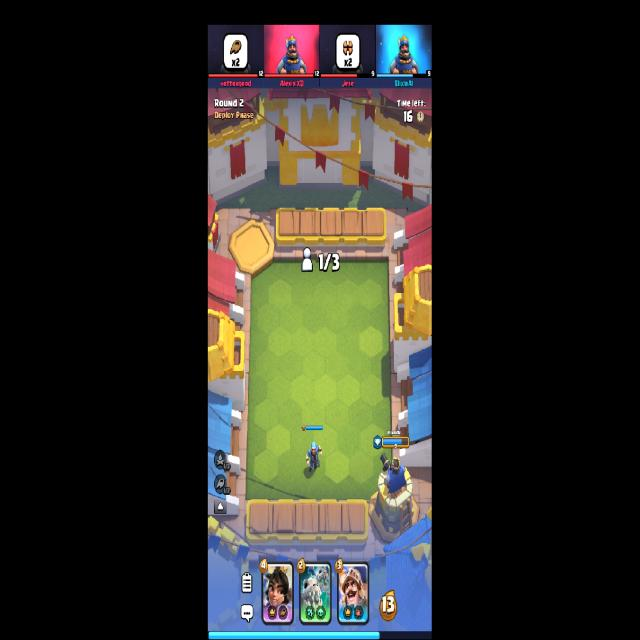card_prince: (338, 563, 370, 624)
card_princess: (262, 561, 294, 625)
card_skeleton_dragon: (299, 562, 332, 624)
wizard: (304, 442, 323, 471)
